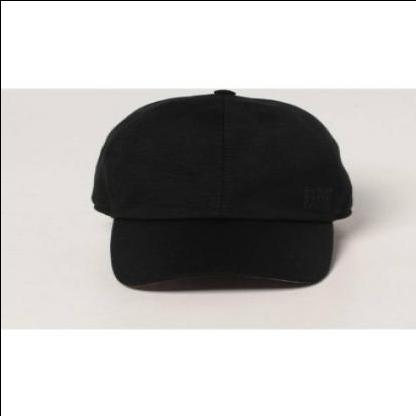cap: (79, 84, 360, 294)
